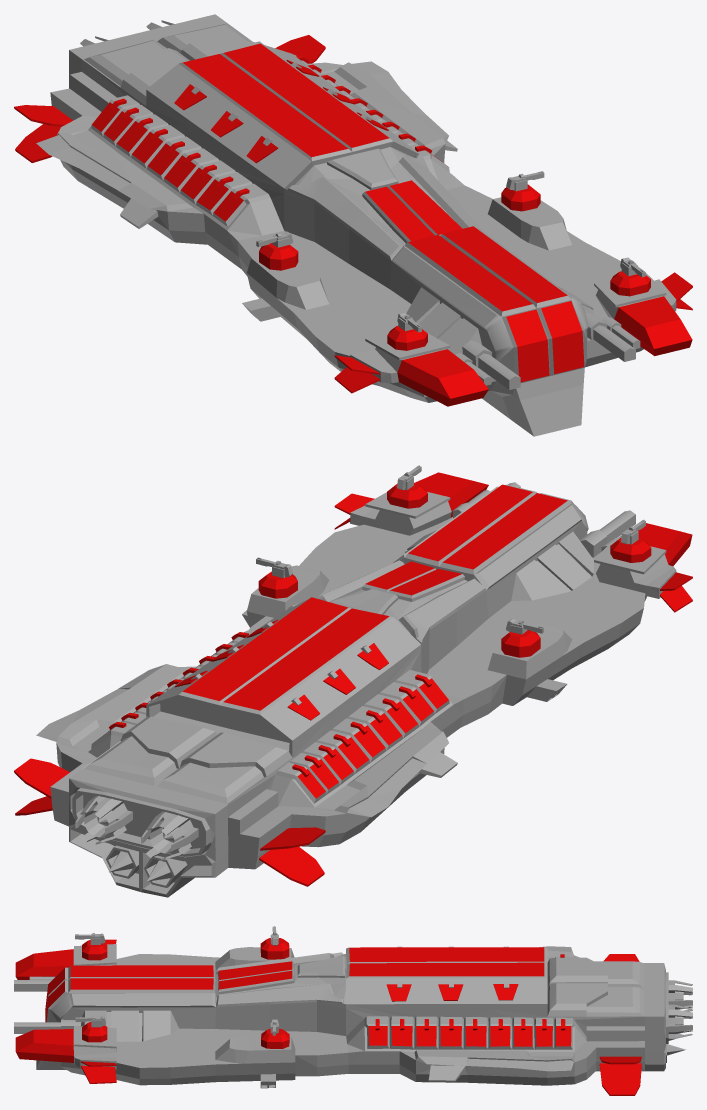
Rendered from Zaiten6.fbx.
3 renders of one model, top to bottom at view 1: azimuth 30°, elevation 25°; view 2: azimuth 150°, elevation 25°; view 3: azimuth 270°, elevation 25°, orthographic. The views are drawn at different scales.
Visible parts, largest first — view 1: zaiten6_diffuse, zaiten6_color; view 2: zaiten6_diffuse, zaiten6_color; view 3: zaiten6_diffuse, zaiten6_color.
Part boxes in pixels (x1,y1,x2,y2): zaiten6_diffuse: [36, 14, 676, 436]; zaiten6_color: [14, 35, 692, 406]; zaiten6_diffuse: [36, 465, 676, 897]; zaiten6_color: [14, 472, 692, 886]; zaiten6_diffuse: [14, 926, 692, 1088]; zaiten6_color: [15, 938, 641, 1095].
Size of the model in its own units: 9.26 by 3.44 by 21.12.
